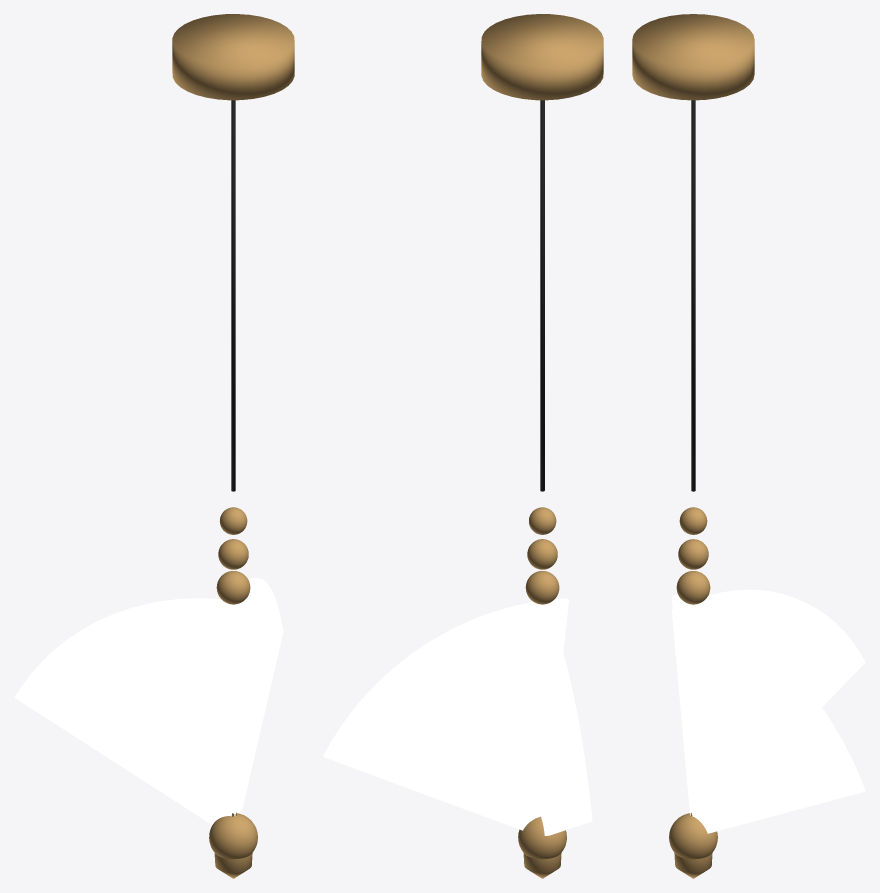
3 renders of one model, left to right at view 1: azimuth 30°, elevation 25°; view 2: azimuth 150°, elevation 25°; view 3: azimuth 270°, elevation 25°, orthographic.
Visible parts, largest first — view 1: void-sky-vx1; view 2: void-sky-vx1; view 3: void-sky-vx1.
Part boxes in pixels (<box>): void-sky-vx1: <box>14,14,294,878</box>; void-sky-vx1: <box>323,14,603,878</box>; void-sky-vx1: <box>632,14,865,878</box>.
Size of the model in its own units: 0.2031 by 0.605 by 0.1525.
